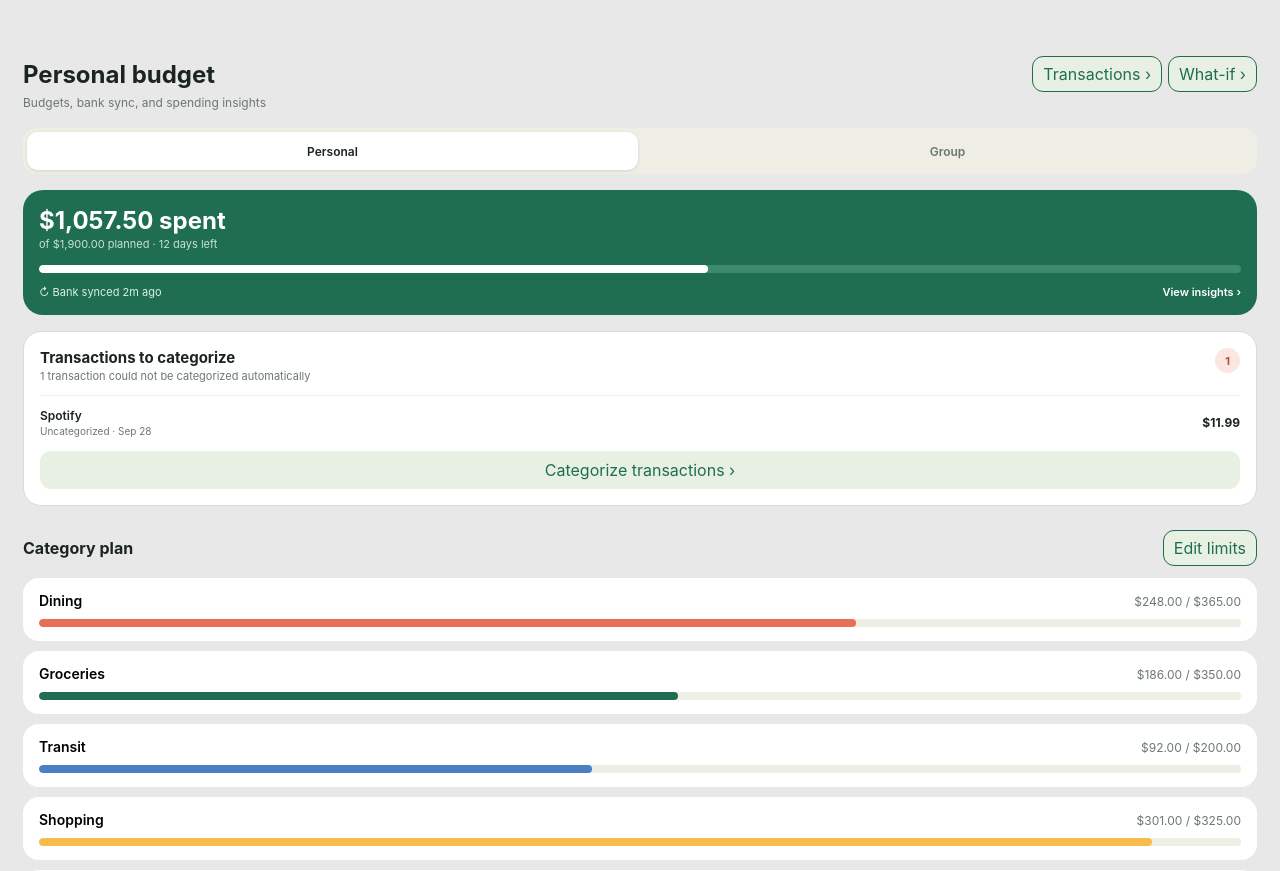
Test case: editable limits › saves new limits to the API and reflects them on the plan
The width and height of the screenshot is (1280, 871).
Click the button "Edit limits": [1210, 548] box [1163, 530, 1257, 566]
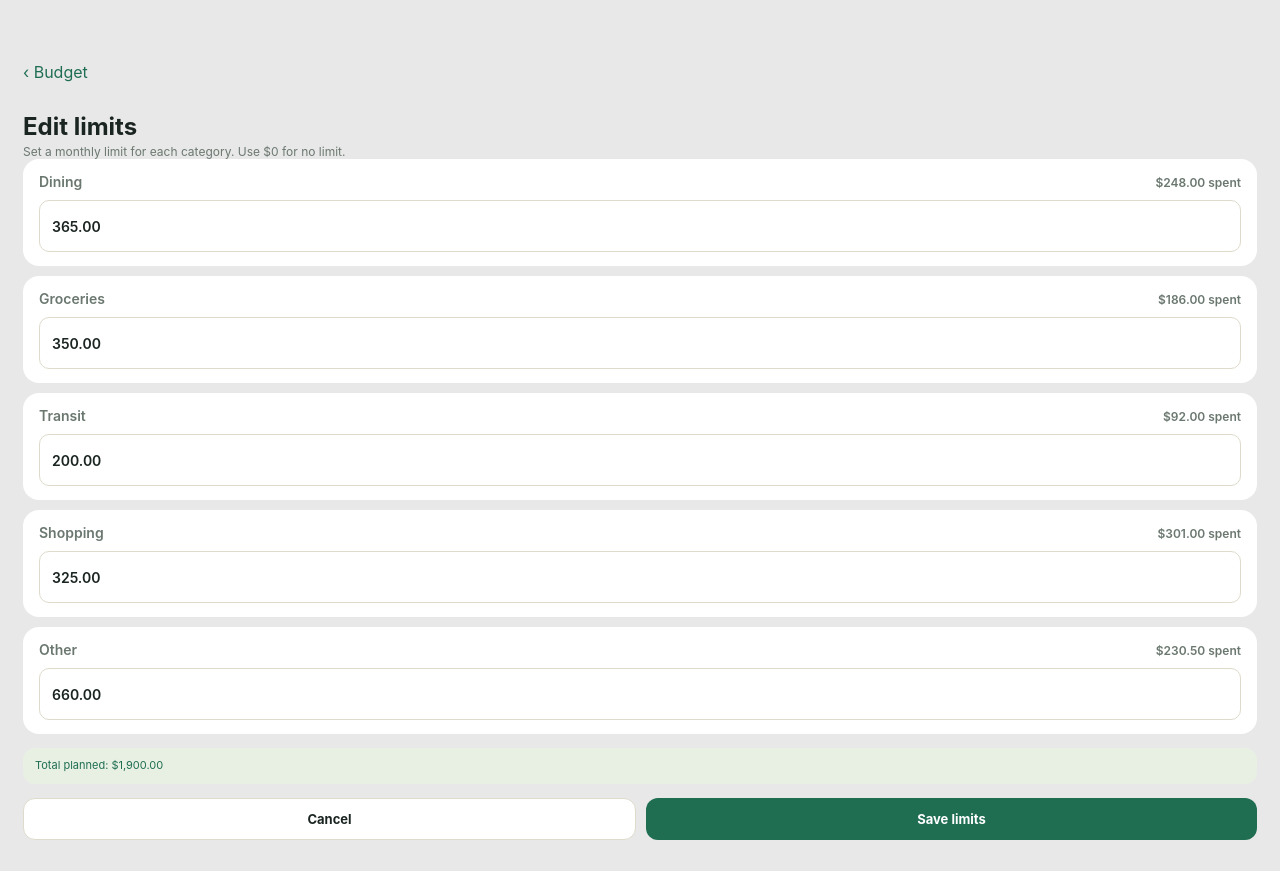
Replace the text in the field named "Dining limit" with "400": [640, 226] box [39, 200, 1241, 252]
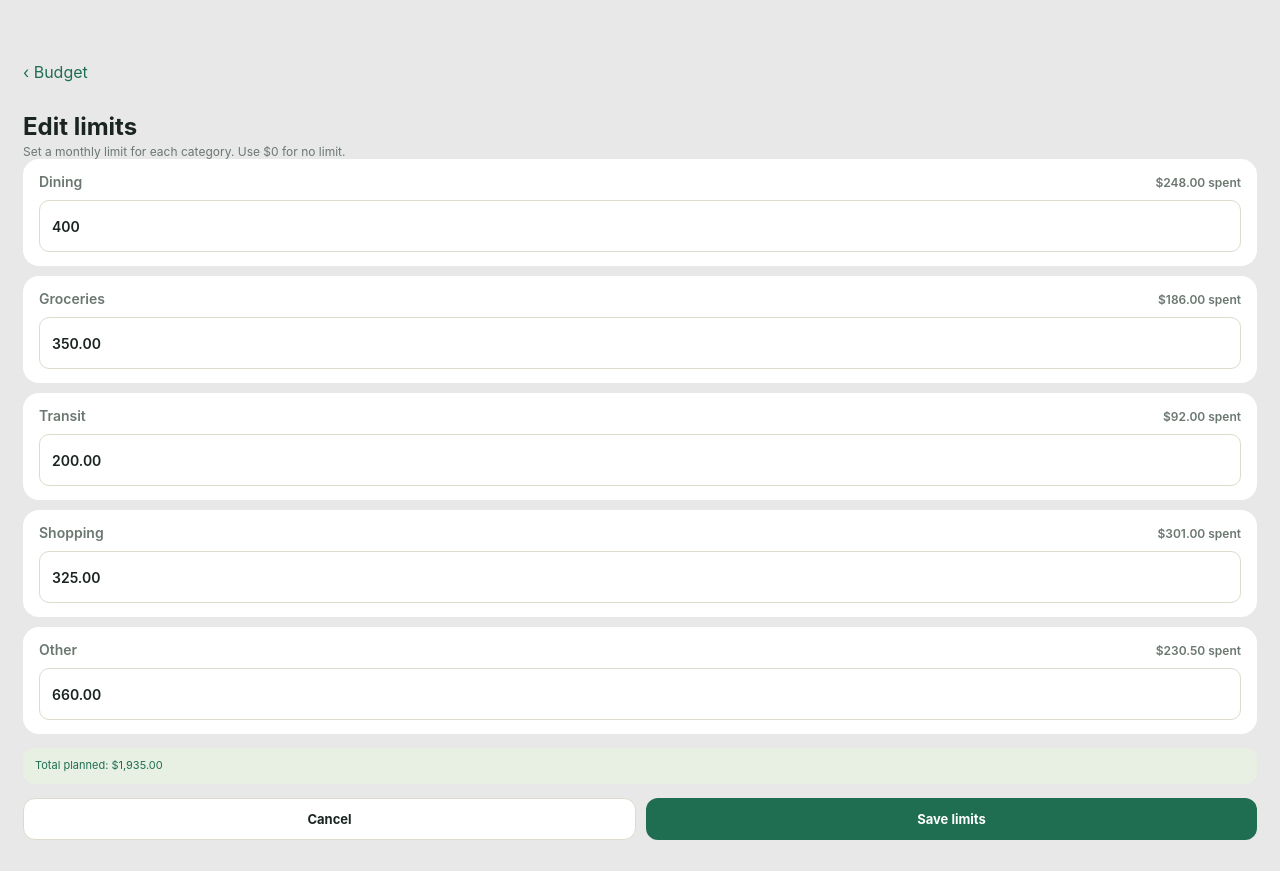
Click the button "Save limits": [952, 819] box [646, 798, 1257, 840]
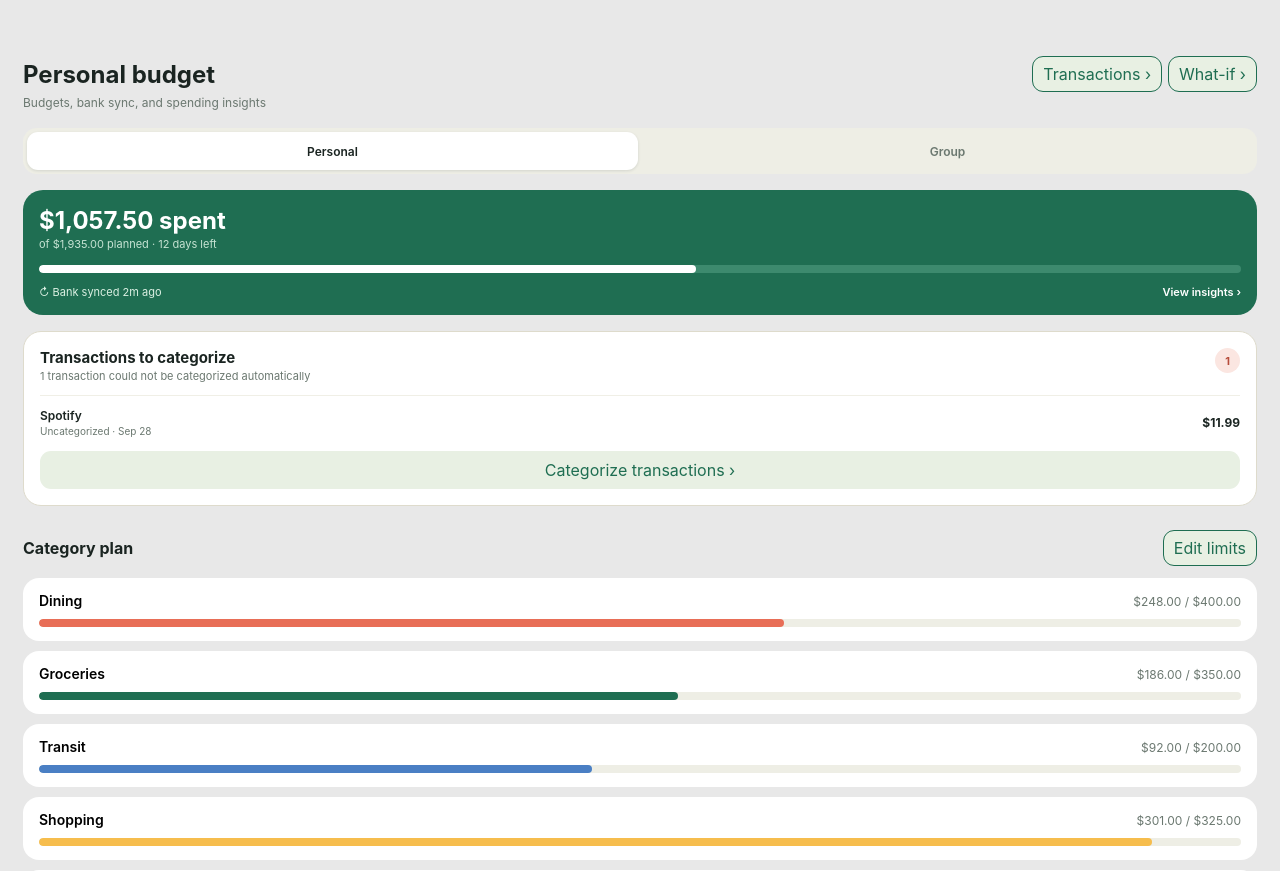
Check: the text "$248.00 / $400.00" is shown, box [1133, 594, 1241, 609]
